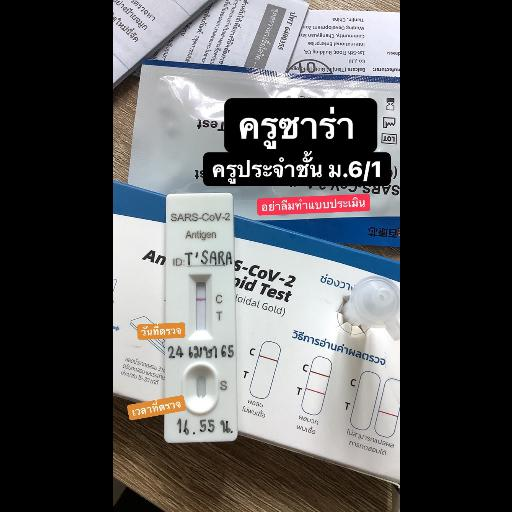Neg: (165, 192, 235, 442)
